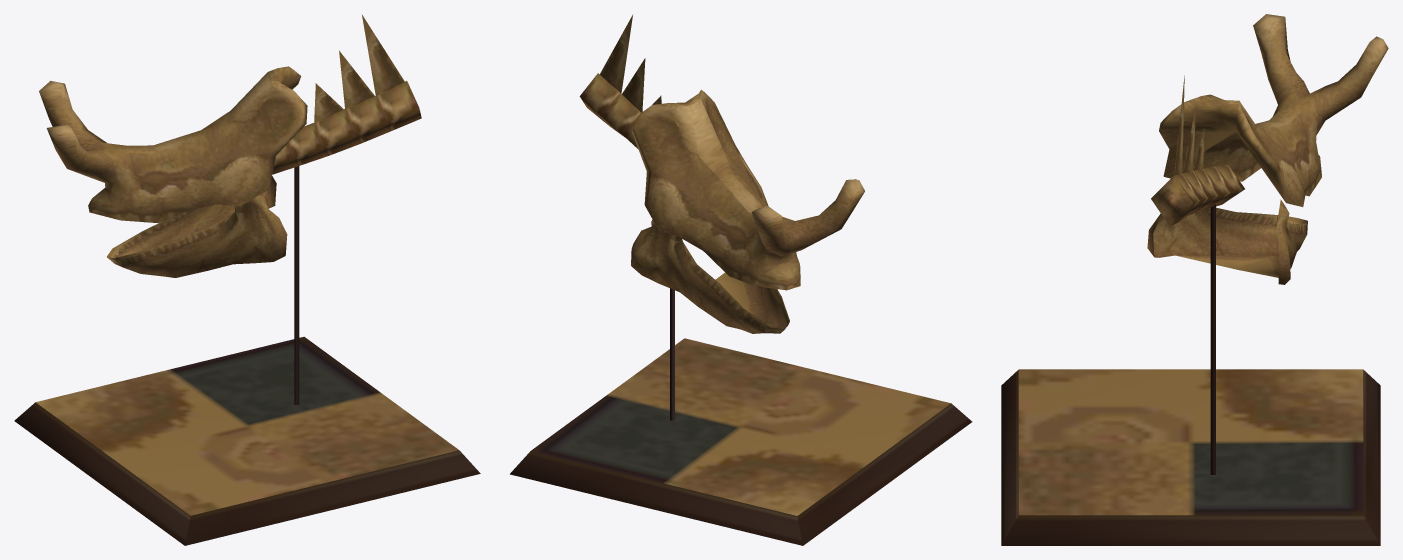
File: int_din_bro_a.dae
3 views of the same model, side by side, from view 1: azimuth 30°, elevation 25°; view 2: azimuth 150°, elevation 25°; view 3: azimuth 270°, elevation 25° (orthographic). The views are drawn at different scales.
Visible parts, largest first — view 1: int_din_bro_a; view 2: int_din_bro_a; view 3: int_din_bro_a.
Boxes of the visible parts, box(x1,y1,x2,y2) form: int_din_bro_a: box(14, 15, 480, 545); int_din_bro_a: box(510, 15, 972, 545); int_din_bro_a: box(1001, 14, 1388, 545).
Size of the model in its own units: 64.15 by 77.32 by 59.88.
1 material, 1 textured.
